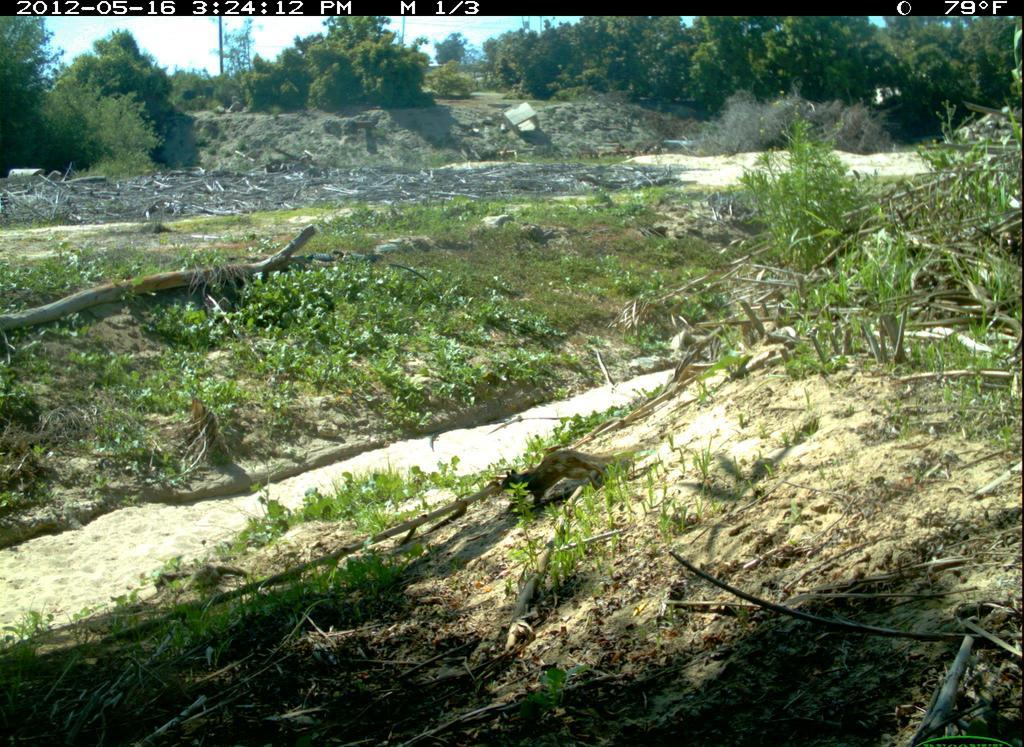squirrel: (491, 442, 628, 520)
